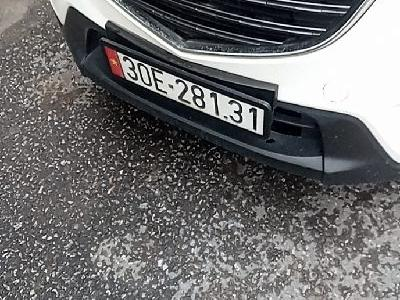lisence: (99, 38, 271, 141)
